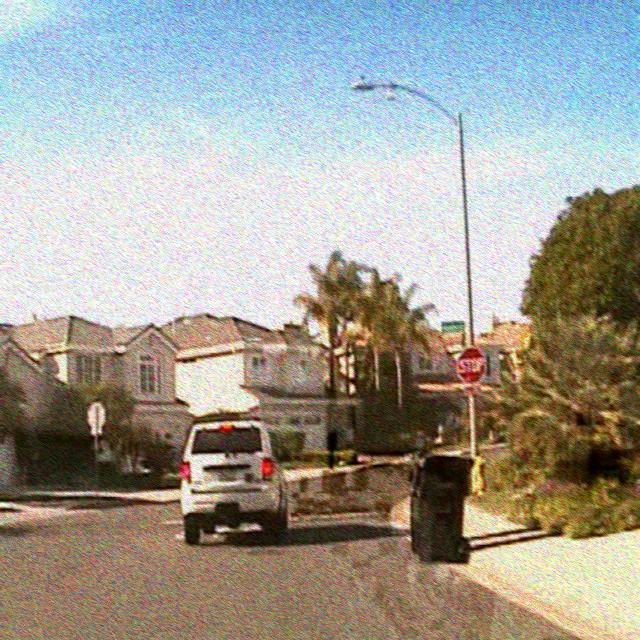stop: (456, 344, 486, 385)
